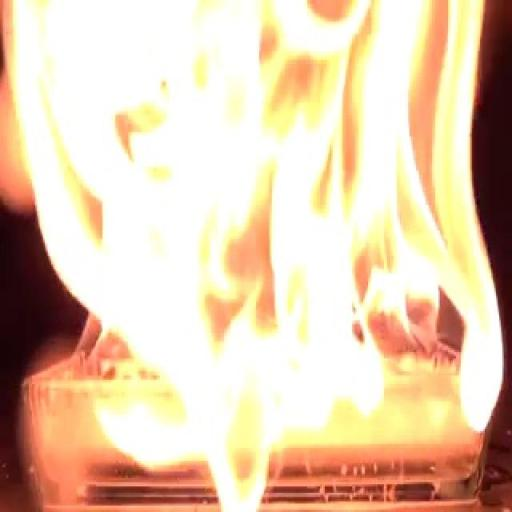smoke: (22, 2, 511, 491)
